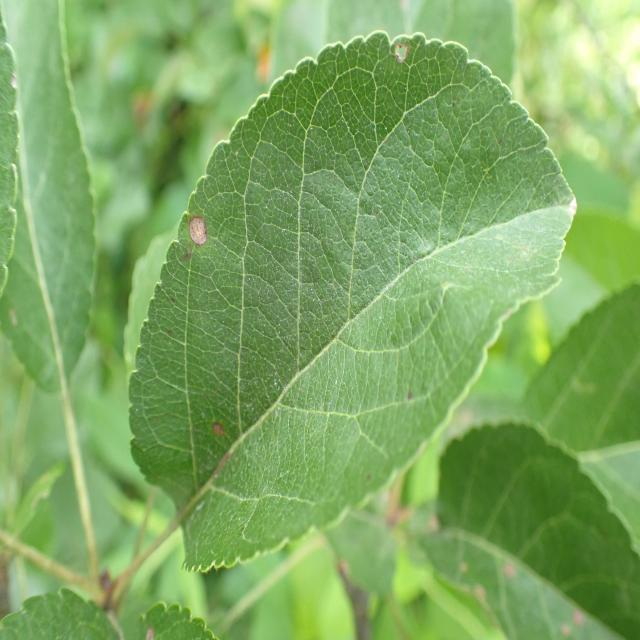Black Rot: (184, 208, 219, 270), (198, 415, 236, 463), (387, 28, 416, 78)
